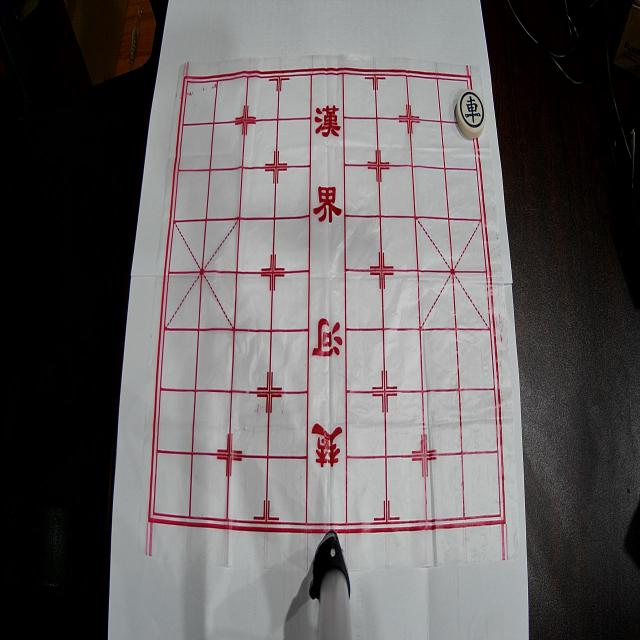black-chariot: (456, 89, 486, 139)
